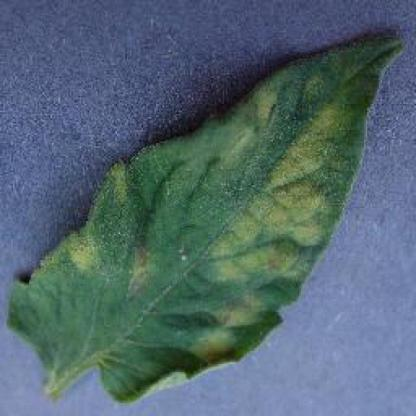Tomato_Leaf_Mold: (12, 35, 404, 391)
